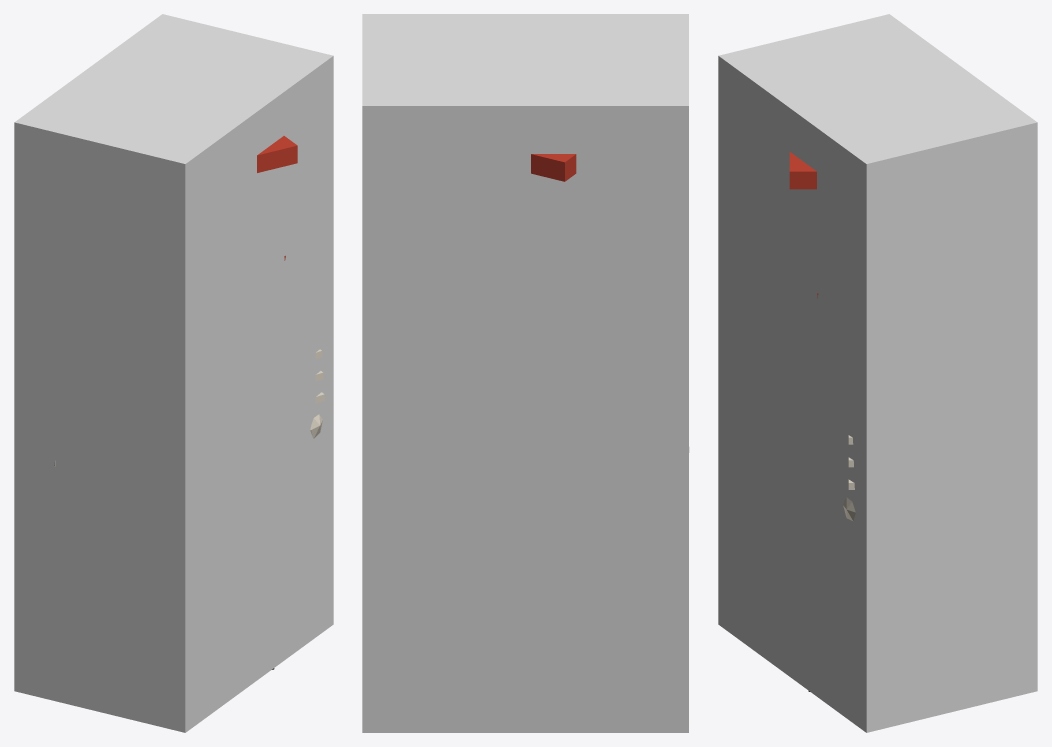
Rendered from npc_trainer.fbx.
3 renders of one model, left to right at view 1: azimuth 30°, elevation 25°; view 2: azimuth 150°, elevation 25°; view 3: azimuth 270°, elevation 25°, orthographic. The views are drawn at different scales.
Parts seen in each view (by area): view 1: Root__0.00_3.00_0.03__2.83_6.00_1.89, Head__Torso__0.00_4.29_0.00; view 2: Root__0.00_3.00_0.03__2.83_6.00_1.89, Head__Torso__0.00_4.29_0.00; view 3: Root__0.00_3.00_0.03__2.83_6.00_1.89, Head__Torso__0.00_4.29_0.00.
Boxes of the visible parts, x1,y1,x2,y2 form: Root__0.00_3.00_0.03__2.83_6.00_1.89: (14, 14, 333, 732); Head__Torso__0.00_4.29_0.00: (257, 136, 297, 172); Root__0.00_3.00_0.03__2.83_6.00_1.89: (362, 14, 688, 732); Head__Torso__0.00_4.29_0.00: (531, 154, 576, 181); Root__0.00_3.00_0.03__2.83_6.00_1.89: (718, 14, 1037, 732); Head__Torso__0.00_4.29_0.00: (789, 152, 816, 189).
Size of the model in its own units: 95.1 by 169 by 85.43.
Materials: 1 (1 with a texture image).
